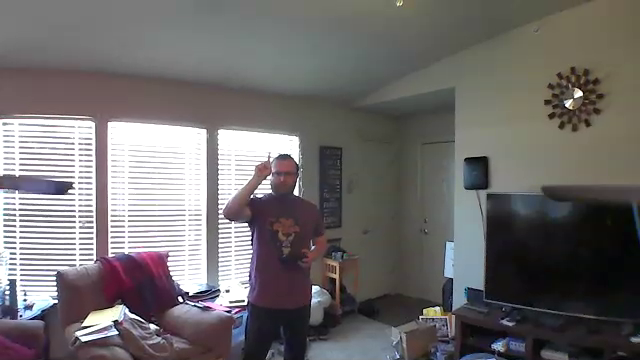up: (252, 147, 274, 183)
